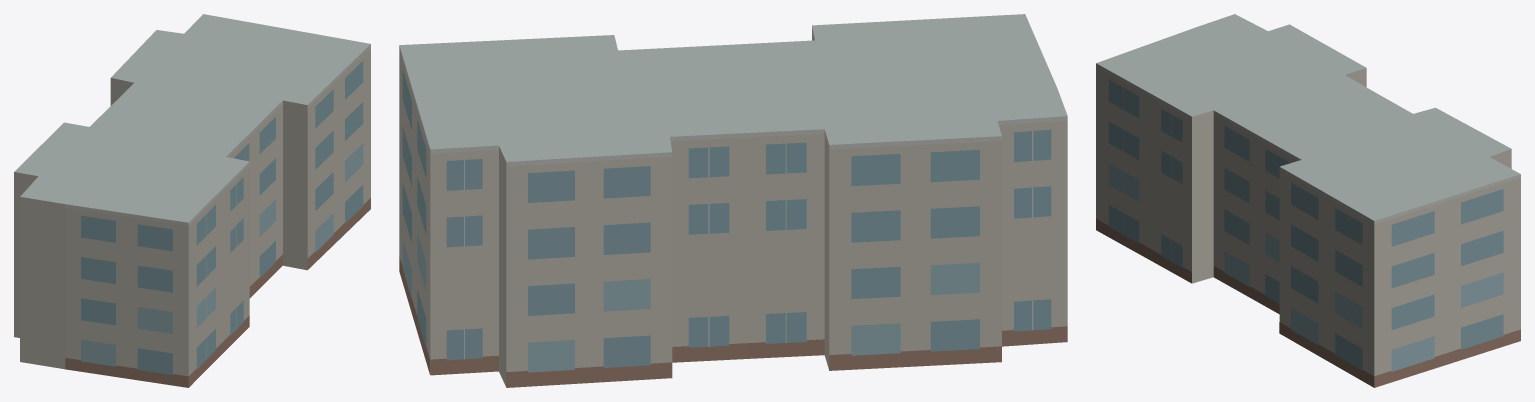
Rendered from survey-upis-32529094.glb.
The picture shows the model from 3 angles, left to right: view 1: azimuth 30°, elevation 25°; view 2: azimuth 150°, elevation 25°; view 3: azimuth 270°, elevation 25°; orthographic projection. The views are drawn at different scales.
Visible parts, largest first — view 1: survey-upis-32529094.tmp; view 2: survey-upis-32529094.tmp; view 3: survey-upis-32529094.tmp.
Part boxes in pixels (x1,y1,x2,y2): survey-upis-32529094.tmp: (14, 14, 370, 387); survey-upis-32529094.tmp: (399, 14, 1067, 387); survey-upis-32529094.tmp: (1096, 14, 1520, 387).
Bounding box in the file's own units: 32.45 × 12.2 × 28.15.
